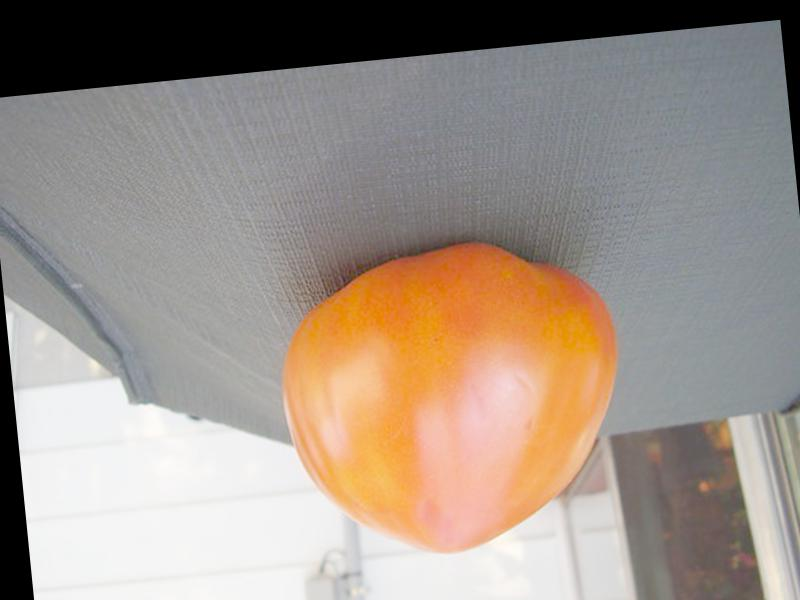Tomato: (270, 232, 636, 570)
